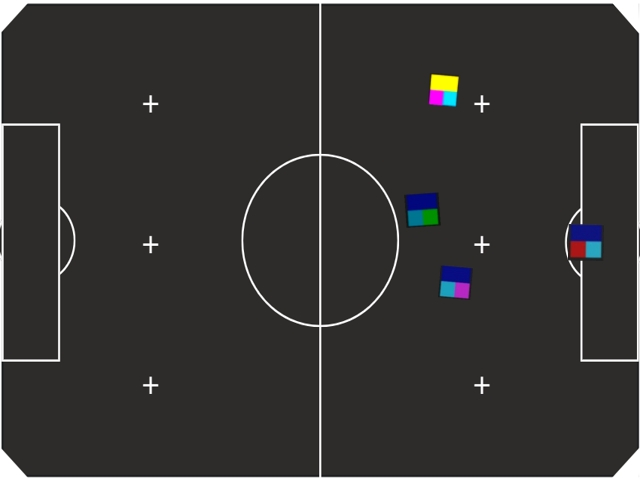pattern2: (568, 224, 604, 261)
pattern20: (428, 73, 459, 107)
pattern7: (404, 192, 441, 228)
pattern8: (438, 265, 473, 300)
